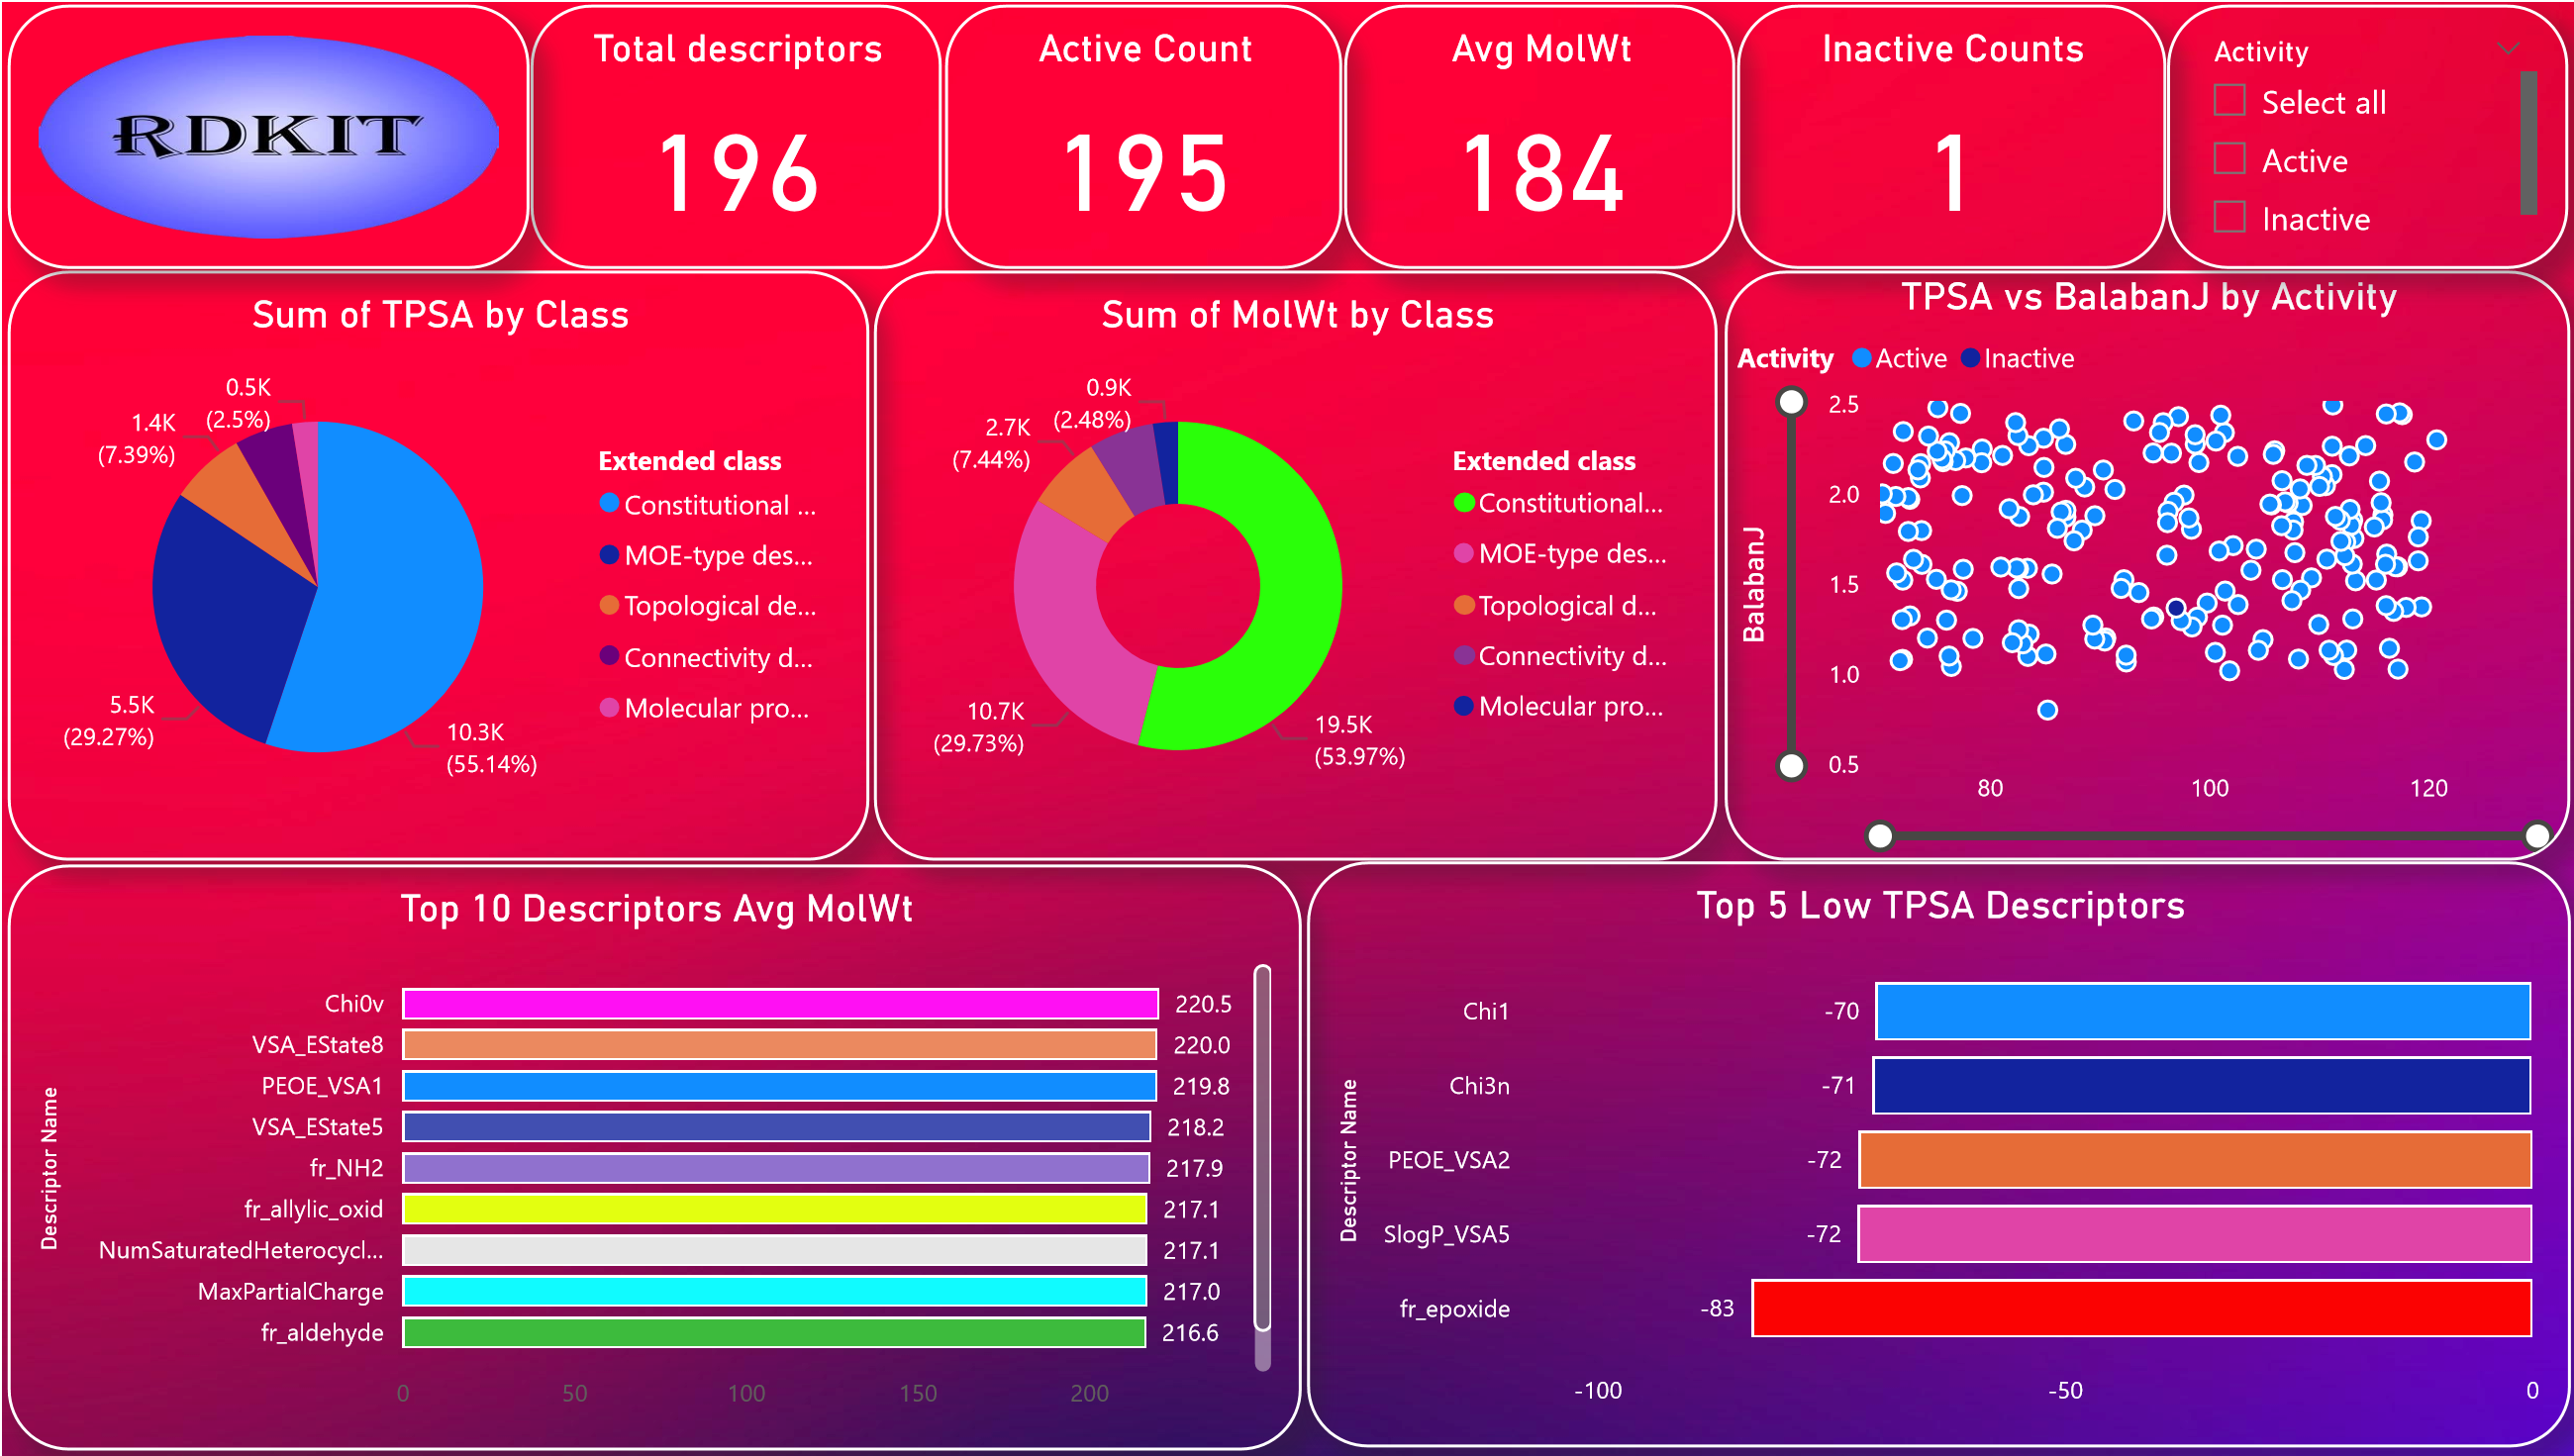

This screenshot's page, from the dashboard's own definition file:
{"tool":"powerbi","page":{"name":"Page 1","canvas":[1280,720],"ordinal":0},"visuals":[{"type":"card","title":"Total descriptors","fields":{"Values":["Sheet1.Description"]},"box":[262.9,1.4,204,131.4],"z":0},{"type":"card","title":"Active Count","fields":{"Values":["Sheet1.ActiveCount"]},"box":[468.6,1.4,197.1,131.4],"z":1000},{"type":"card","title":"Avg MolWt","fields":{"Values":["Sheet1.AvgMolWt"]},"box":[667.1,1.4,194.3,131.4],"z":2000},{"type":"card","title":"Inactive Counts","fields":{"Values":["Sheet1.InactiveCount"]},"box":[862.9,1.4,212.9,131.4],"z":3000},{"type":"pieChart","title":"Sum of TPSA by Class","fields":{"Category":["Sheet1.Extended class"],"Y":["Sheet1.TPSA"],"Series":["Sheet1.IsDrug"]},"box":[3,134.3,428.4,292.5],"z":4000},{"type":"donutChart","title":"Sum of MolWt by Class","fields":{"Category":["Sheet1.Extended class"],"Y":["Sheet1.MolWt"]},"box":[434.3,134.3,419.4,292.5],"z":5000},{"type":"scatterChart","title":"TPSA vs BalabanJ by Activity","fields":{"X":["Sheet1.TPSA"],"Y":["Sheet1.BalabanJ"],"Series":["Sheet1.Activity"],"Size":["Sheet1.Index"]},"box":[856.7,134.3,420,292.5],"z":6000},{"type":"clusteredBarChart","title":"Top 10 Descriptors Avg MolWt","fields":{"Category":["Sheet1.Descriptor Name"],"Y":["Sheet1.MolWt"]},"box":[3,429.9,643.3,291],"z":7000},{"type":"clusteredBarChart","title":"Top 5 Low TPSA Descriptors","fields":{"Category":["Sheet1.Descriptor Name"],"Y":["Sheet1.LowTPSA"]},"box":[649.3,428.4,628,291],"z":8000},{"type":"image","box":[2.9,1.4,258.6,131.4],"z":9000},{"type":"slicer","fields":{"Values":["Sheet1.Activity"]},"box":[1077.1,1.4,198.6,131.4],"z":10000}]}

Visuals, with their boxes in screenshot pixels (x1, y1, x2, y2), scaled from the page's 1280x720 canvas onto the 2574x1456 screenshot:
"Total descriptors" card: [529,3,939,268]
"Active Count" card: [942,3,1338,268]
"Avg MolWt" card: [1341,3,1732,268]
"Inactive Counts" card: [1735,3,2163,268]
"Sum of TPSA by Class" pieChart: [6,271,867,863]
"Sum of MolWt by Class" donutChart: [873,271,1717,863]
"TPSA vs BalabanJ by Activity" scatterChart: [1723,271,2567,863]
"Top 10 Descriptors Avg MolWt" clusteredBarChart: [6,869,1300,1455]
"Top 5 Low TPSA Descriptors" clusteredBarChart: [1306,866,2569,1455]
image: [6,3,526,268]
slicer - Sheet1.Activity: [2166,3,2565,268]
